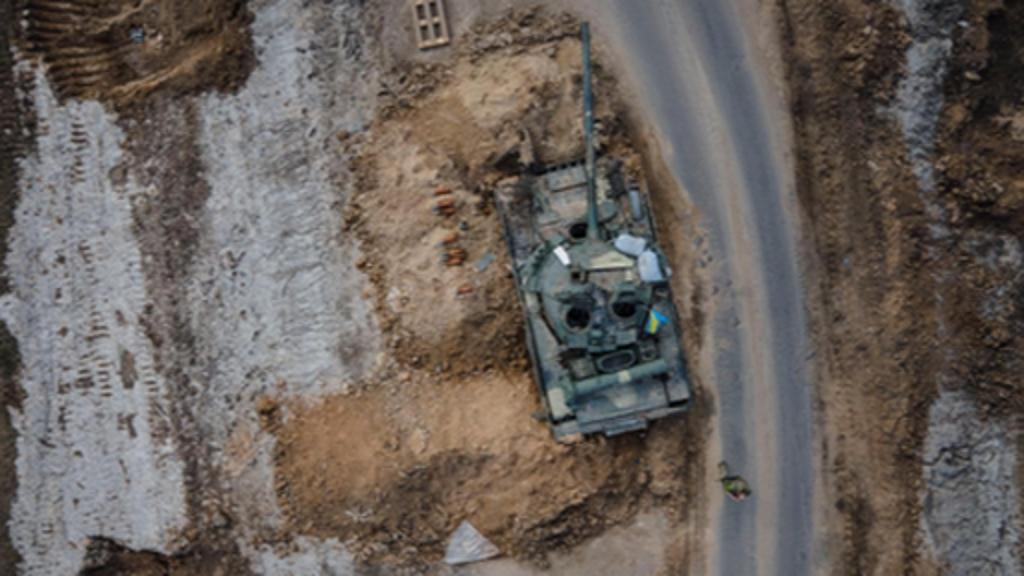TANK: (490, 10, 704, 442)
